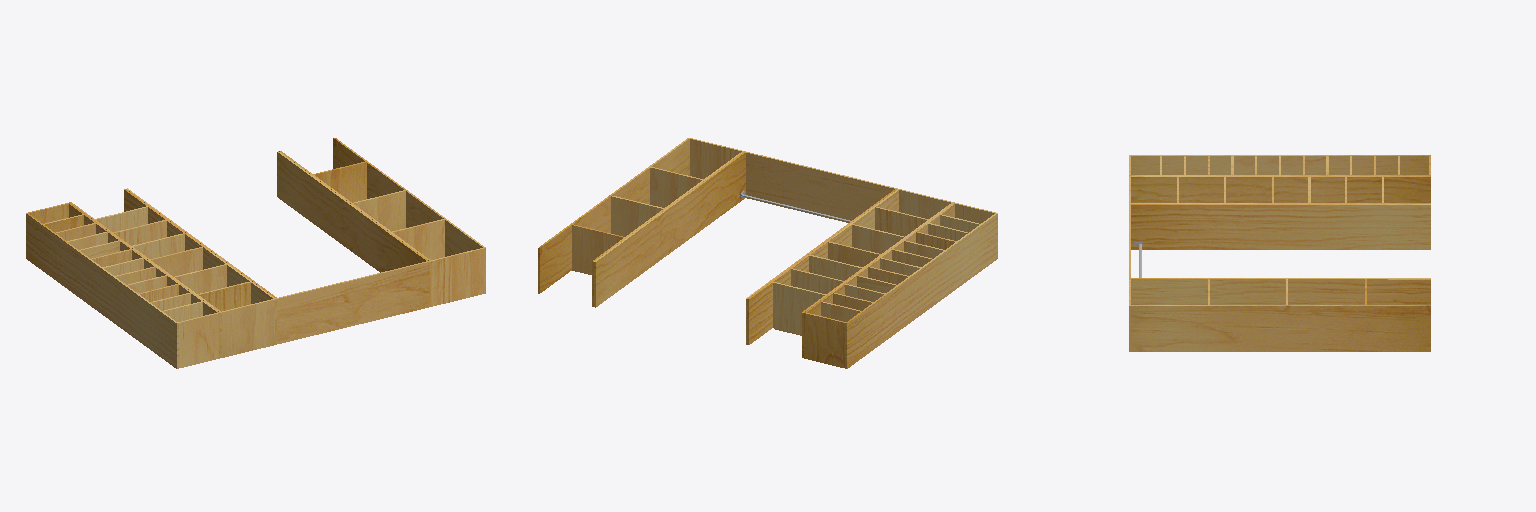
3 views of the same model, side by side, from view 1: azimuth 30°, elevation 25°; view 2: azimuth 150°, elevation 25°; view 3: azimuth 270°, elevation 25° (orthographic).
Parts seen in each view (by area): view 1: closet_shelves; view 2: closet_shelves; view 3: closet_shelves.
Boxes of the visible parts, x1,y1,x2,y2 form: closet_shelves: [26, 138, 485, 368]; closet_shelves: [538, 138, 997, 368]; closet_shelves: [1129, 155, 1430, 351].
Bounding box in the file's own units: 97.62 × 15.4 × 82.46.
1 materials, 1 textured.